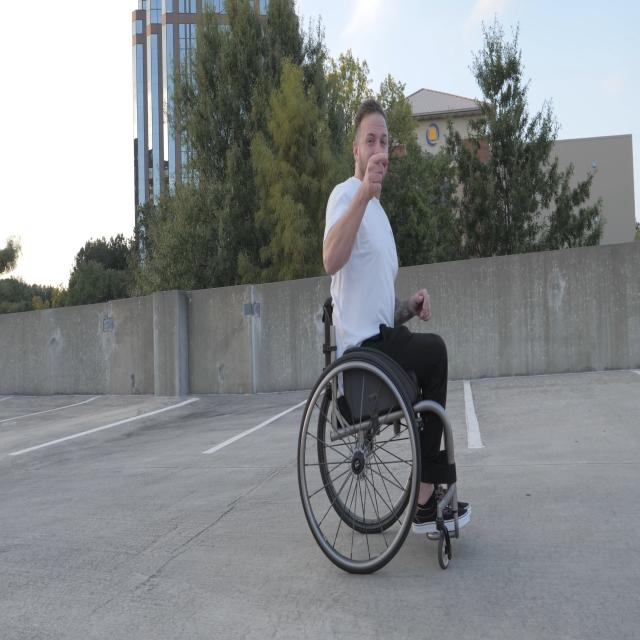wheelchairs: (297, 293, 460, 578)
